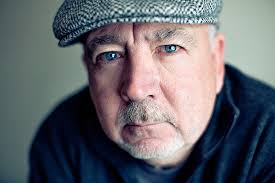No-Glasses: (73, 30, 202, 68)
